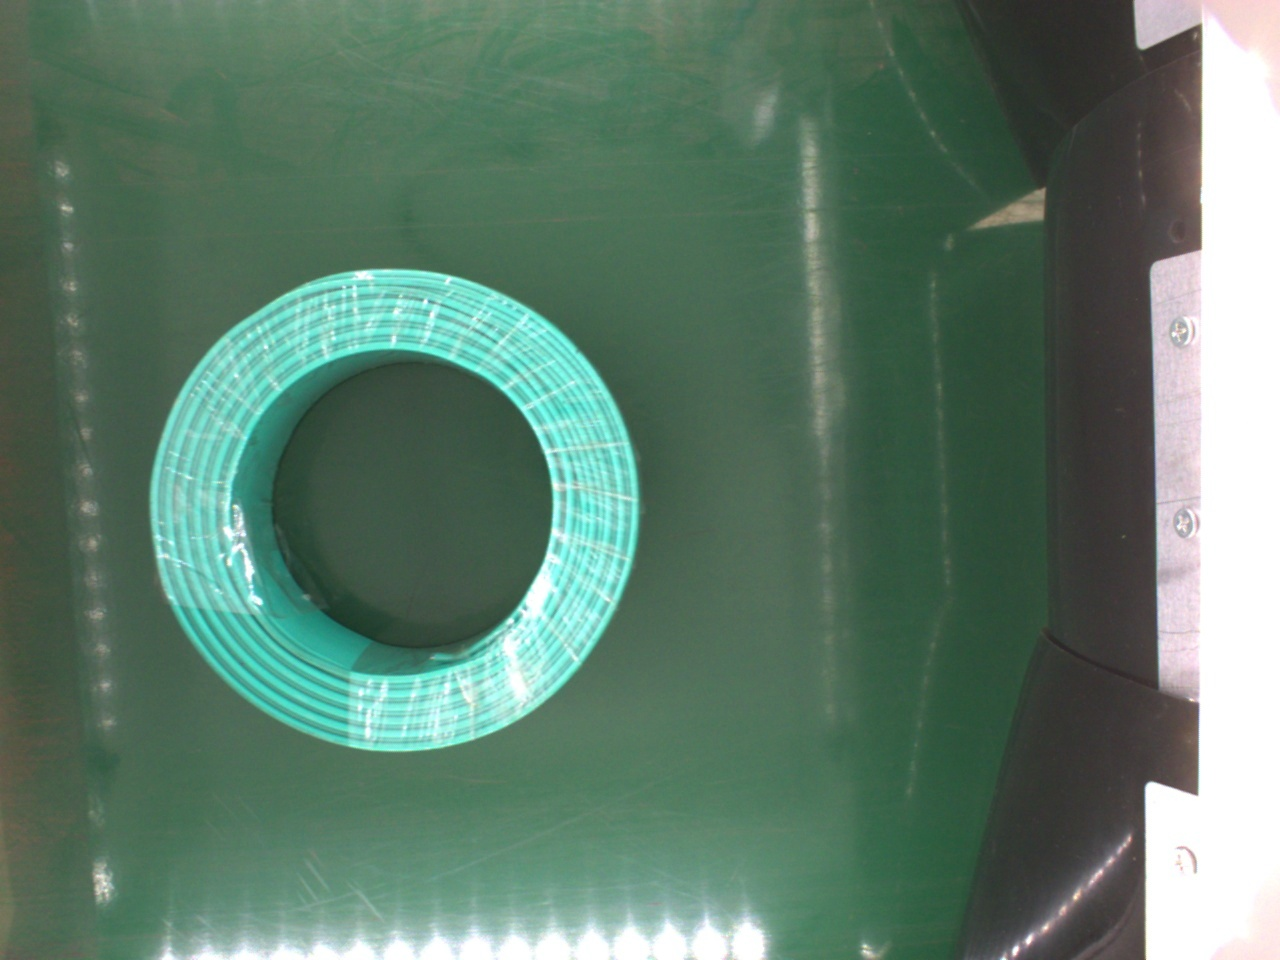green: (150, 267, 643, 759)
